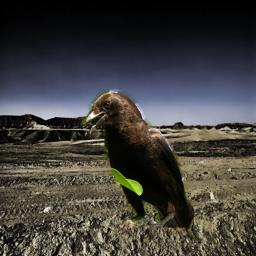Crow: (82, 89, 194, 240)
